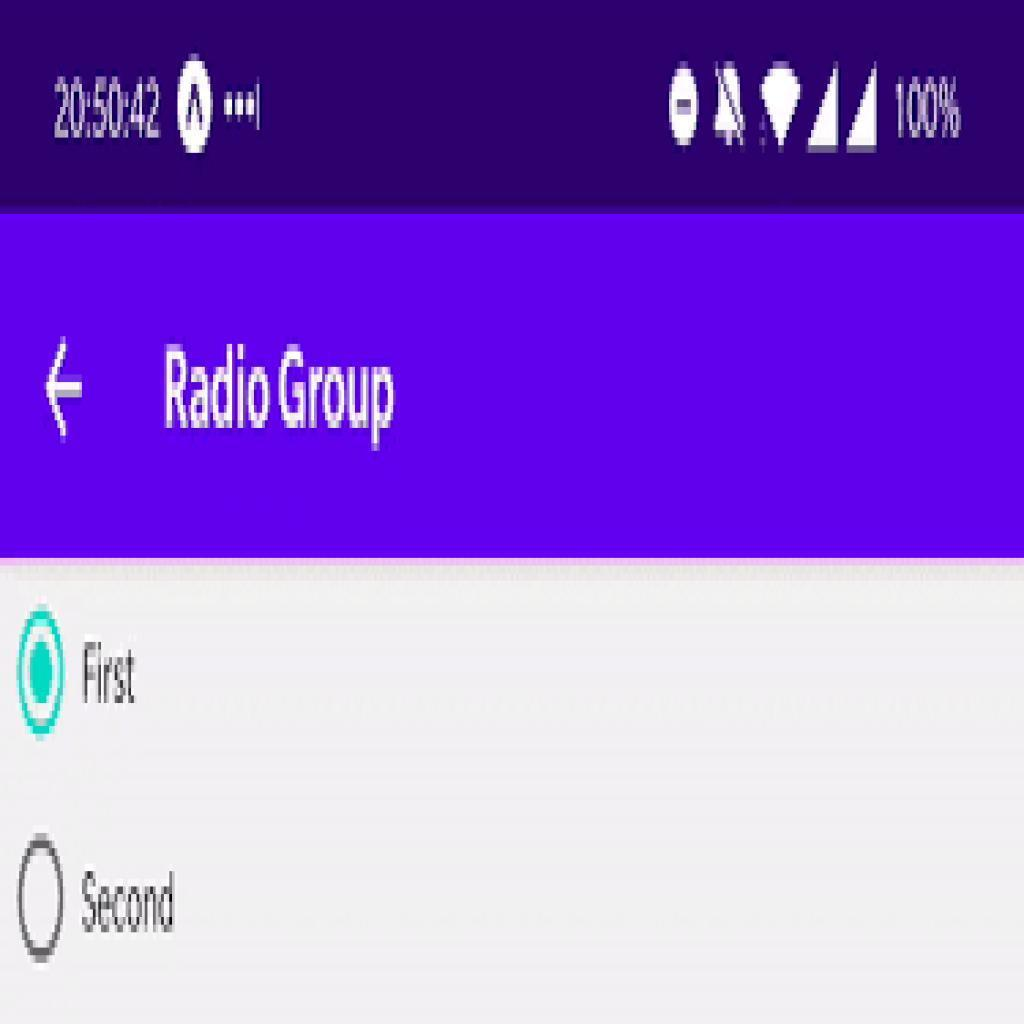icon: (44, 338, 91, 445), (178, 57, 215, 160), (761, 64, 800, 160), (847, 60, 882, 163), (712, 64, 750, 158), (808, 62, 841, 158), (665, 65, 701, 152), (223, 84, 261, 130)
label: (168, 344, 396, 455), (75, 870, 186, 940), (82, 638, 139, 712)
radio: (17, 601, 69, 741), (16, 832, 68, 966)
